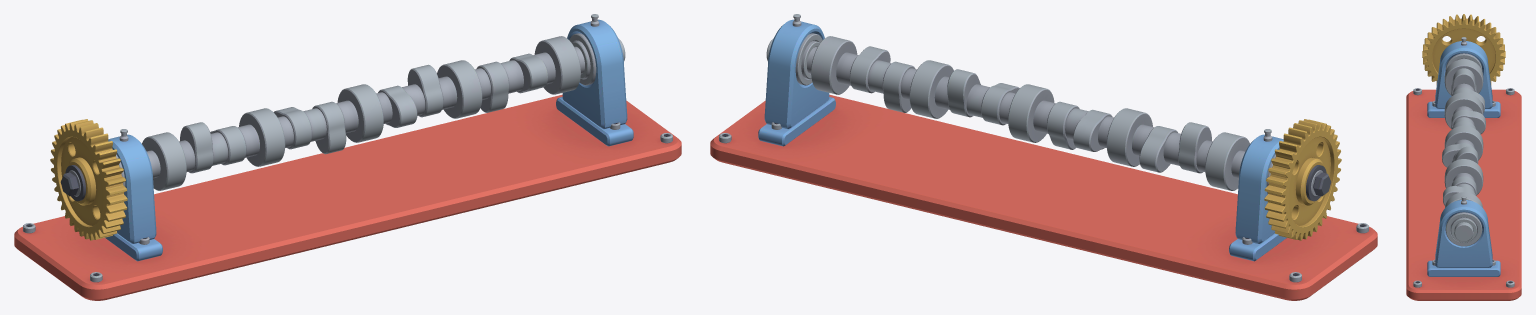
The model's file is camshaft.glb.
3 views of the same model, side by side, from view 1: azimuth 30°, elevation 25°; view 2: azimuth 150°, elevation 25°; view 3: azimuth 270°, elevation 25° (orthographic). The views are drawn at different scales.
Visible parts, largest first — view 1: camshaft_body, camshaft_rotor; view 2: camshaft_body, camshaft_rotor; view 3: camshaft_body, camshaft_rotor.
Boxes of the visible parts, x1=… form: camshaft_body: x1=14, y1=14, x2=681, y2=300; camshaft_rotor: x1=50, y1=36, x2=625, y2=240; camshaft_body: x1=710, y1=14, x2=1377, y2=300; camshaft_rotor: x1=766, y1=36, x2=1341, y2=240; camshaft_body: x1=1406, y1=37, x2=1521, y2=300; camshaft_rotor: x1=1422, y1=14, x2=1505, y2=241.
Size of the model in its own units: 0.547 by 0.122 by 0.132.
Materials: 2 (2 with a texture image).
